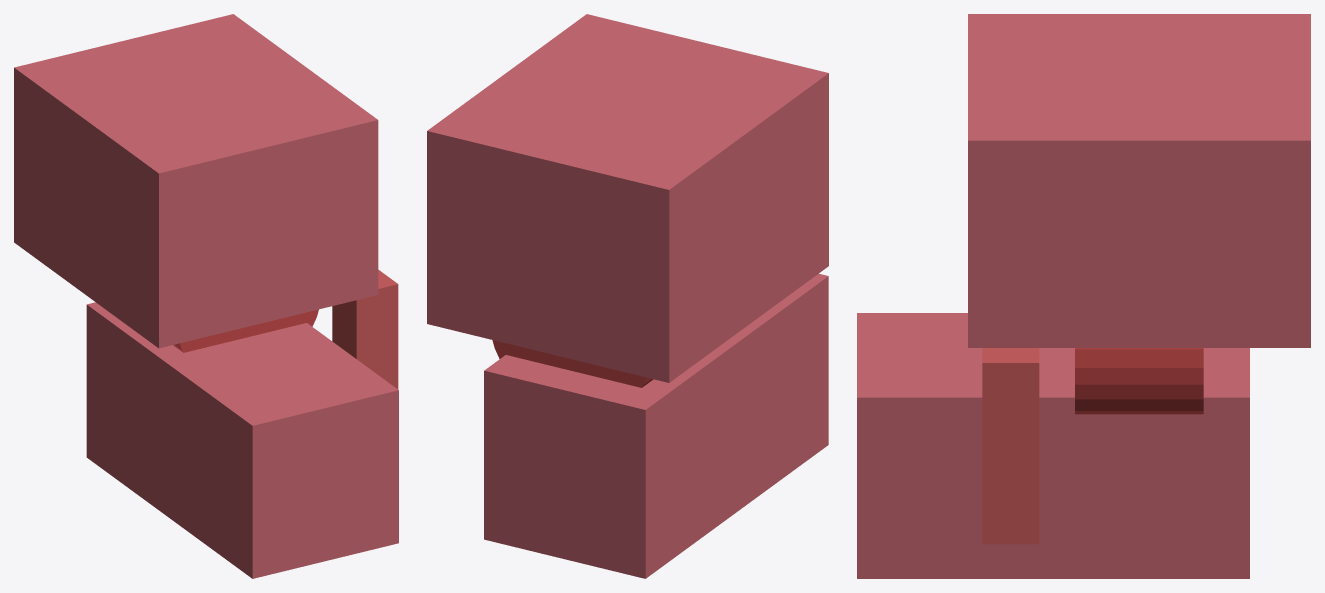
File: arm_right_002_valkyrion.glb
3 views of the same model, side by side, from view 1: azimuth 30°, elevation 25°; view 2: azimuth 150°, elevation 25°; view 3: azimuth 270°, elevation 25° (orthographic). The views are drawn at different scales.
Visible parts, largest first — view 1: geometry_0, geometry_1, geometry_3, geometry_2; view 2: geometry_0, geometry_1, geometry_2; view 3: geometry_0, geometry_1, geometry_3, geometry_2.
Boxes of the visible parts, x1,y1,x2,y2 form: geometry_0: [14, 14, 378, 348]; geometry_1: [86, 302, 398, 578]; geometry_3: [332, 270, 398, 389]; geometry_2: [173, 309, 318, 352]; geometry_0: [427, 14, 828, 382]; geometry_1: [484, 273, 828, 578]; geometry_2: [492, 340, 652, 387]; geometry_0: [968, 14, 1310, 347]; geometry_1: [857, 313, 1249, 578]; geometry_3: [982, 348, 1039, 544]; geometry_2: [1075, 348, 1203, 414].
Size of the model in its own units: 0.47 by 0.7 by 0.635.
